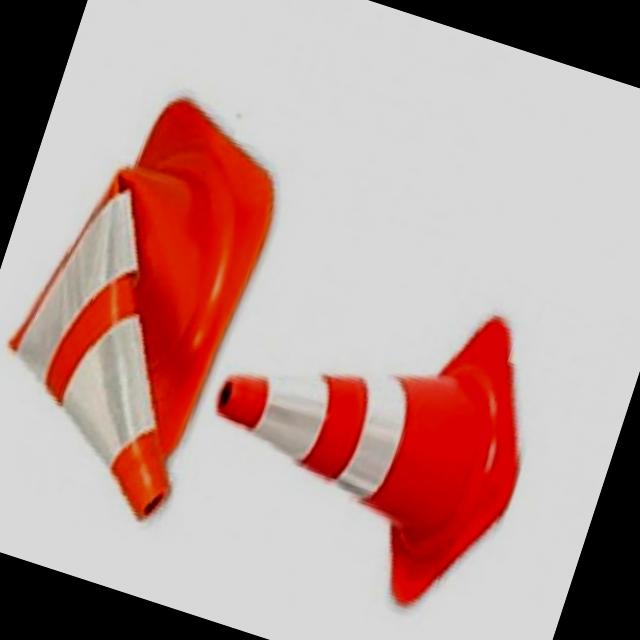cone: (161, 220, 572, 634)
